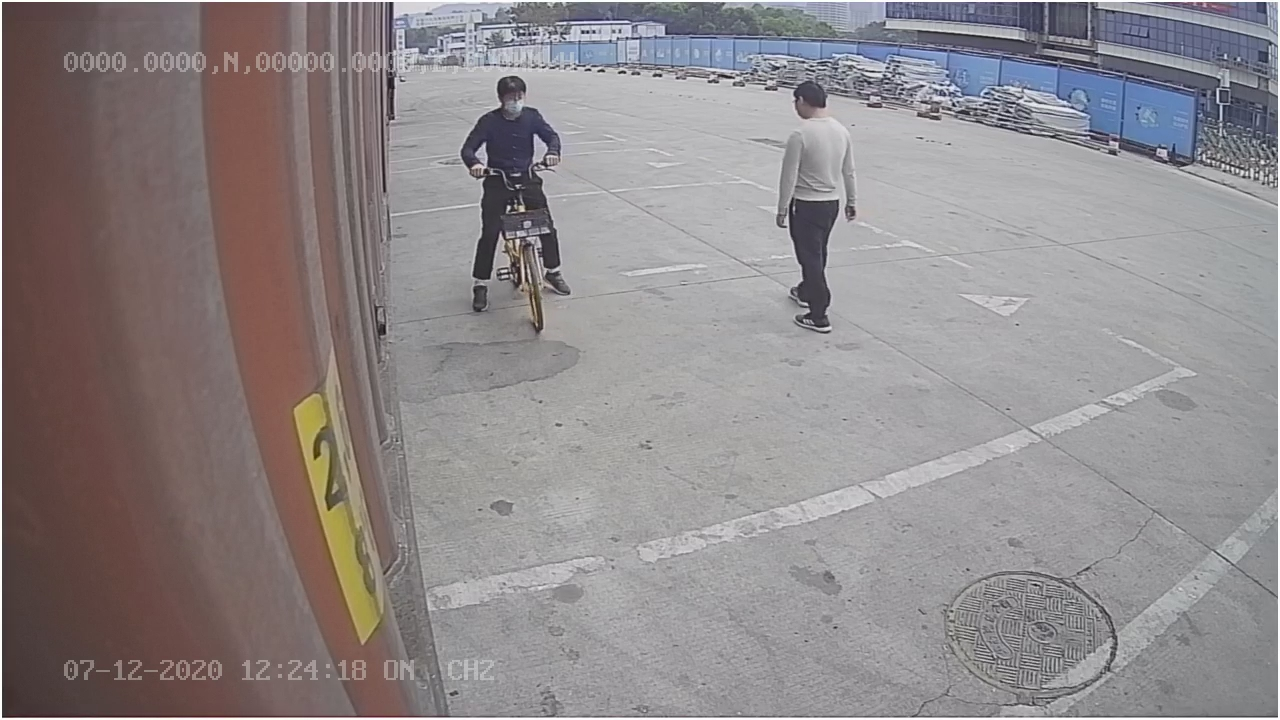person: (772, 78, 862, 336)
